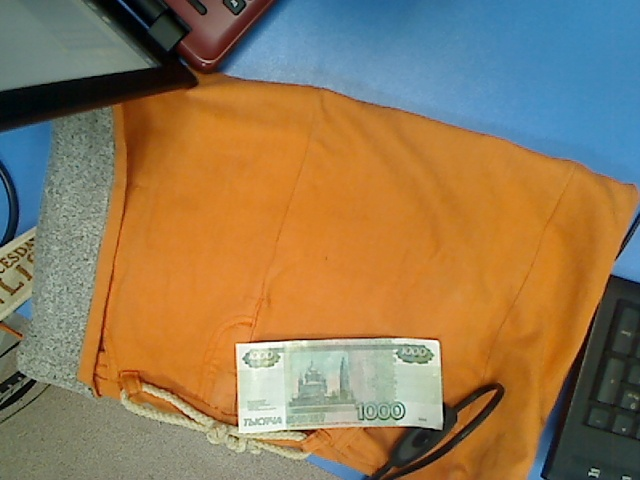banknotes: (234, 334, 447, 432)
